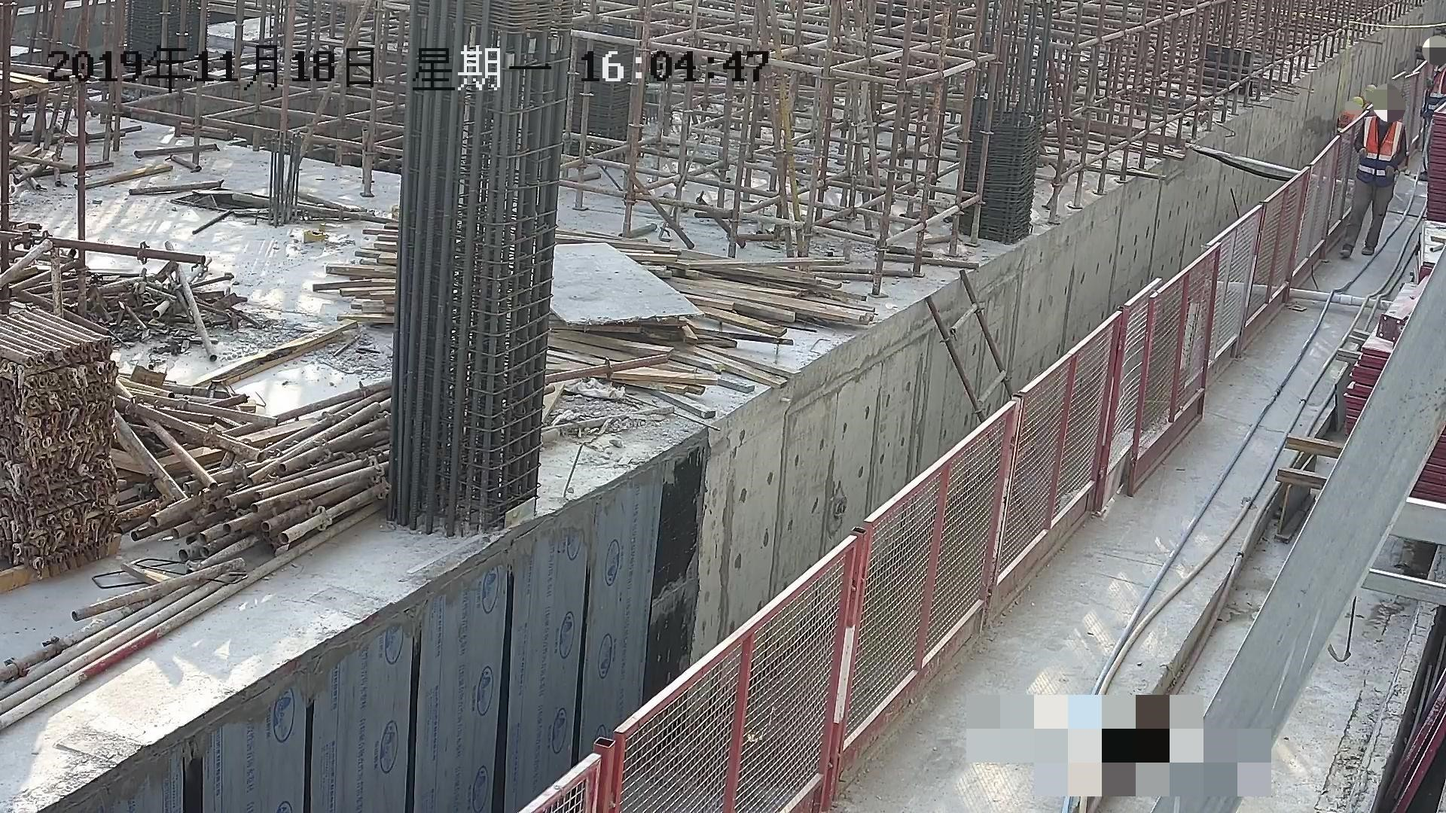hat: (1377, 88, 1402, 122)
person: (1338, 90, 1407, 257)
